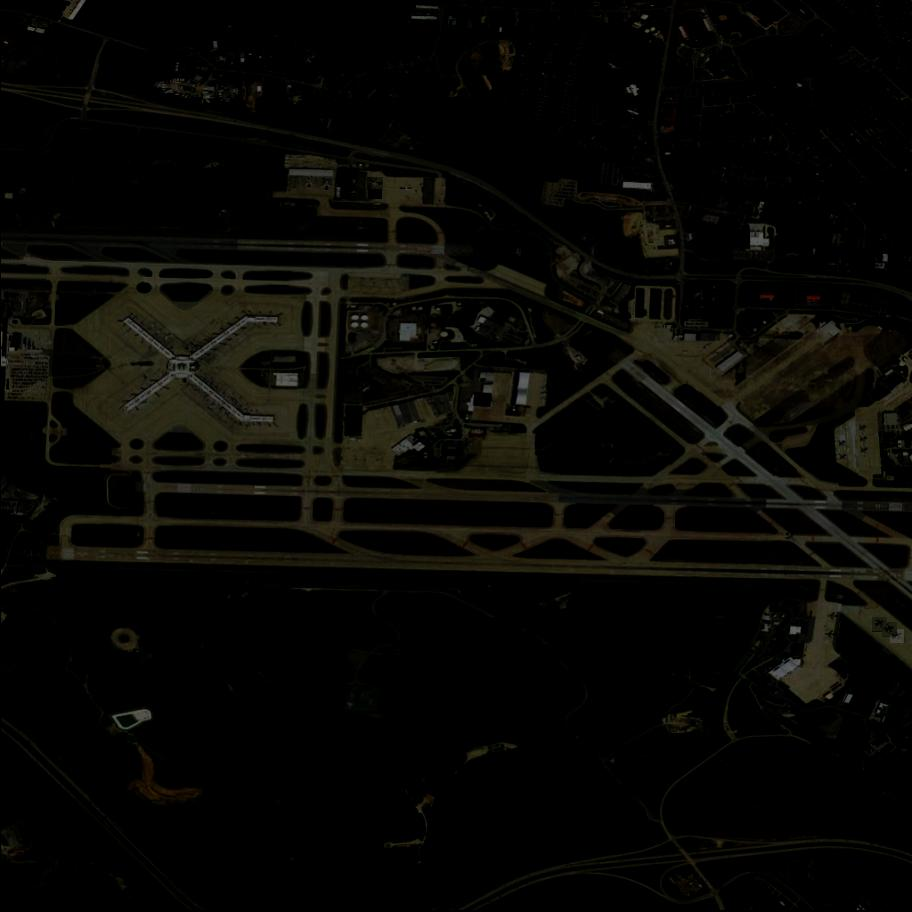plane: (873, 617, 889, 633), (367, 177, 384, 191), (882, 622, 897, 637), (891, 629, 906, 643), (368, 189, 383, 201)
